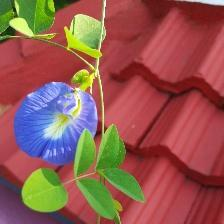shankupushpam: (14, 67, 102, 167)
